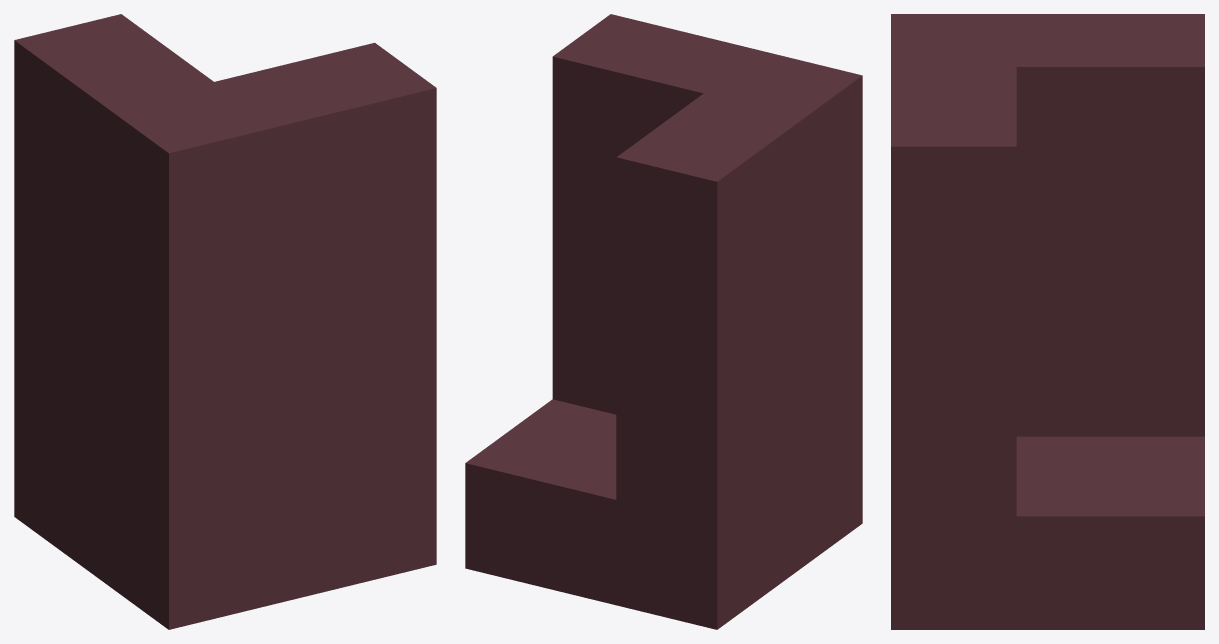
Rendered from buildings-pool-part-corner-1x1m.glb.
3 views of the same model, side by side, from view 1: azimuth 30°, elevation 25°; view 2: azimuth 150°, elevation 25°; view 3: azimuth 270°, elevation 25° (orthographic). The views are drawn at different scales.
Visible parts, largest first — view 1: pool-part-corner-1x1m; view 2: pool-part-corner-1x1m; view 3: pool-part-corner-1x1m.
Part boxes in pixels (x1,y1,x2,y2): pool-part-corner-1x1m: [14, 14, 436, 629]; pool-part-corner-1x1m: [465, 14, 862, 629]; pool-part-corner-1x1m: [891, 14, 1204, 629].
Size of the model in its own units: 1 by 1.7 by 1.
